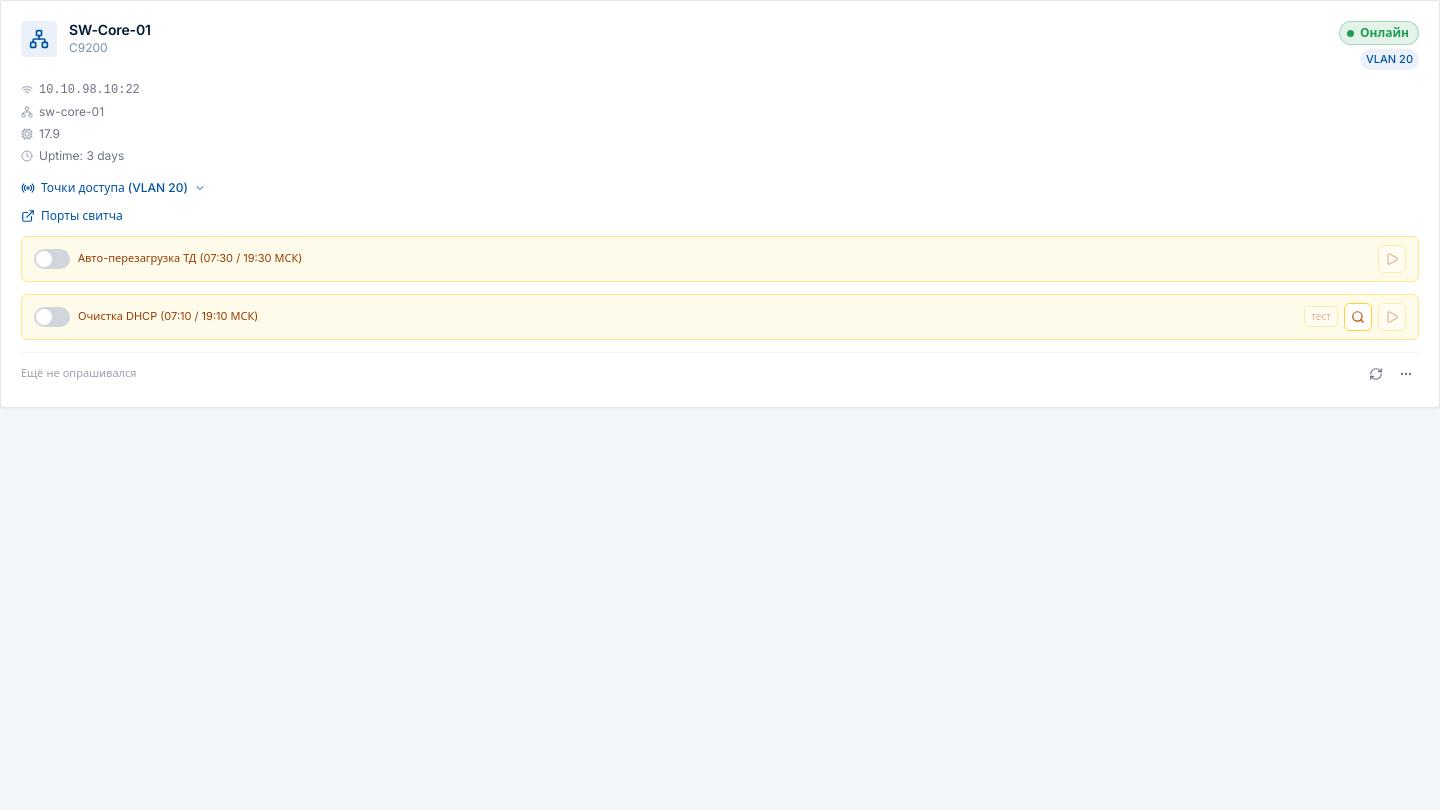
Test: SwitchCard › closes additional actions menu on outside click and Escape
Click the button titled "Дополнительные действия" at x=1406, y=374, box [1393,360,1419,386]
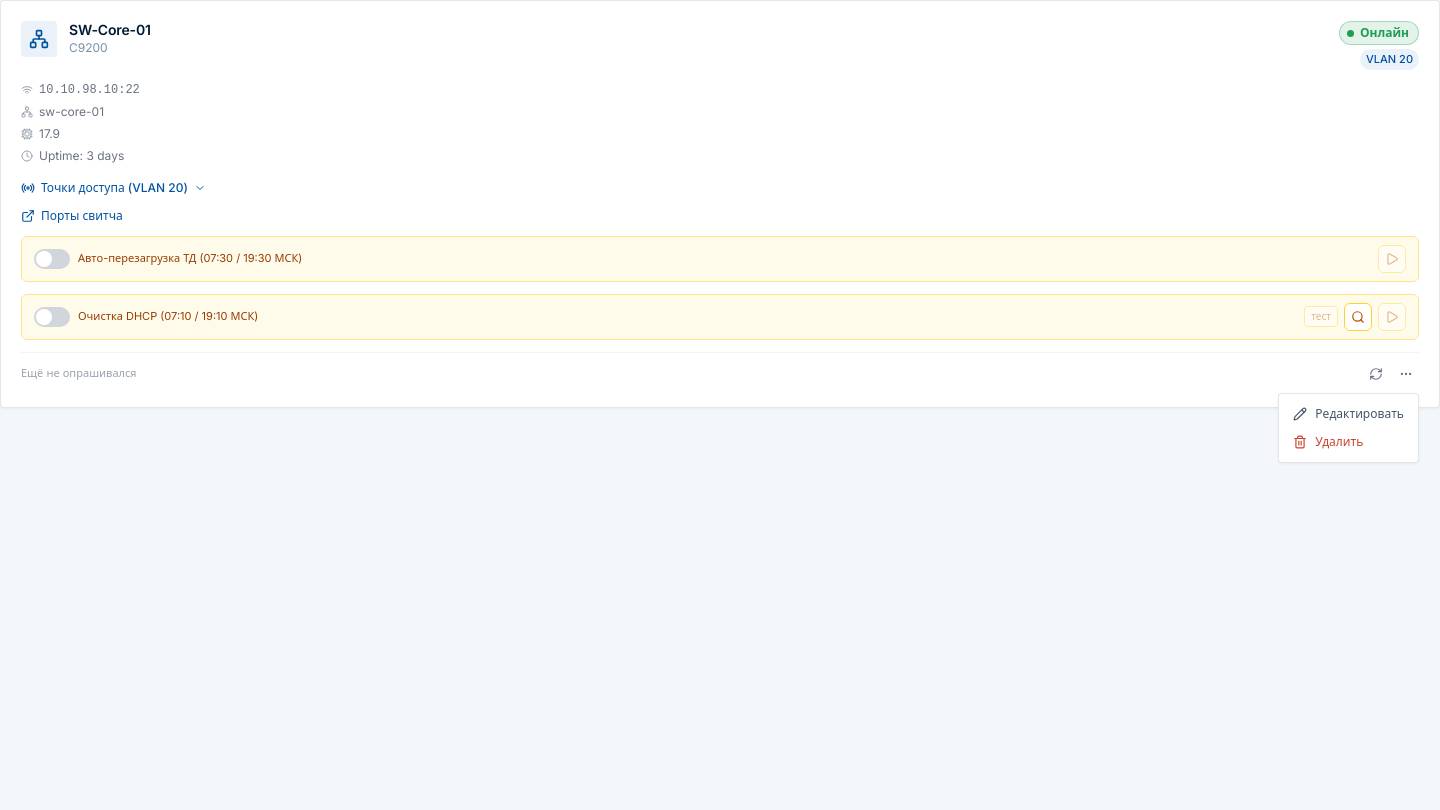
Expected: the button "Редактировать" is shown, [1285,400,1412,428]
Press the mouse on the element that starts with "SW-Core-01" at x=720, y=405, box [0,0,1439,809]
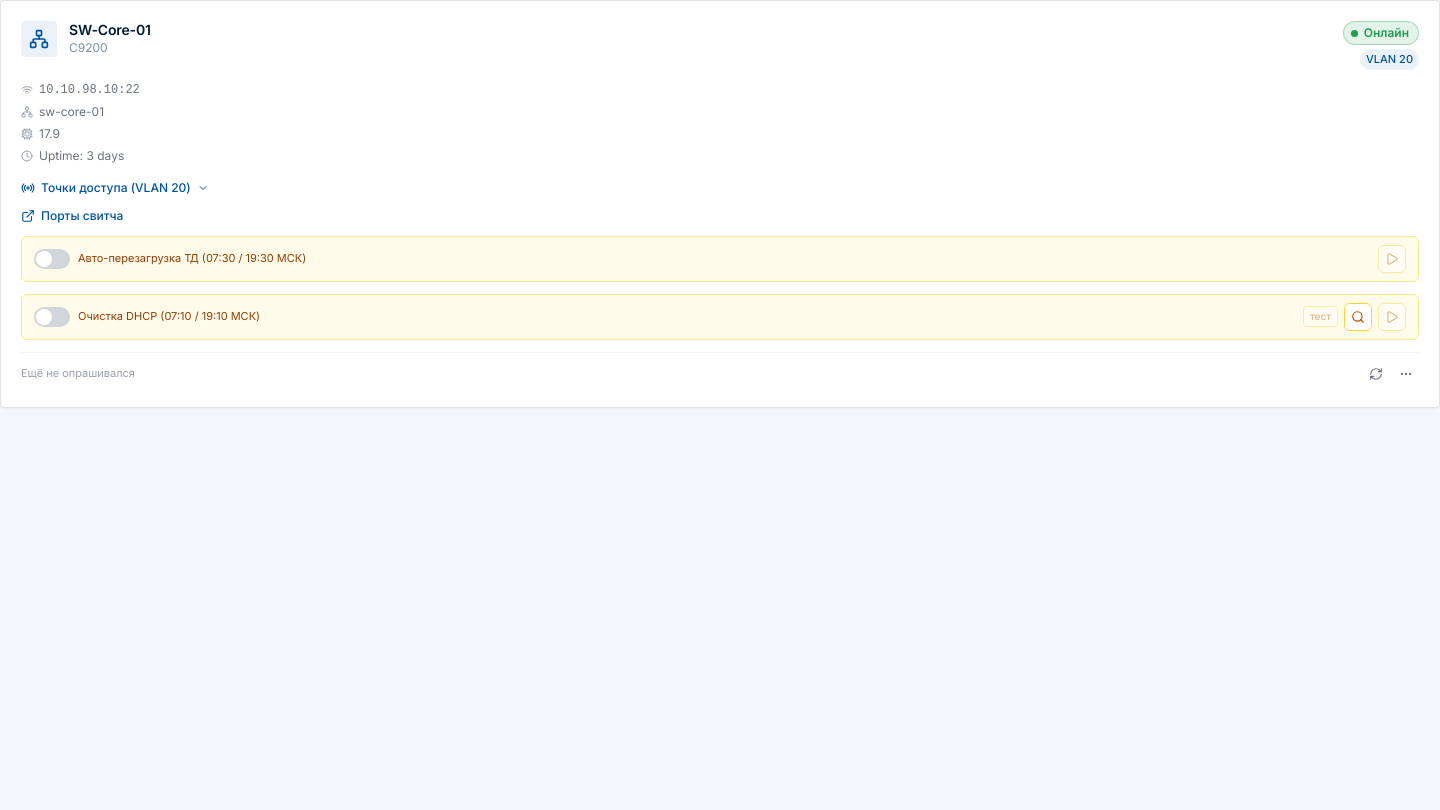
Expected: the button "Редактировать" is gone
Click the button titled "Дополнительные действия" at x=1406, y=374, box [1393,360,1419,386]
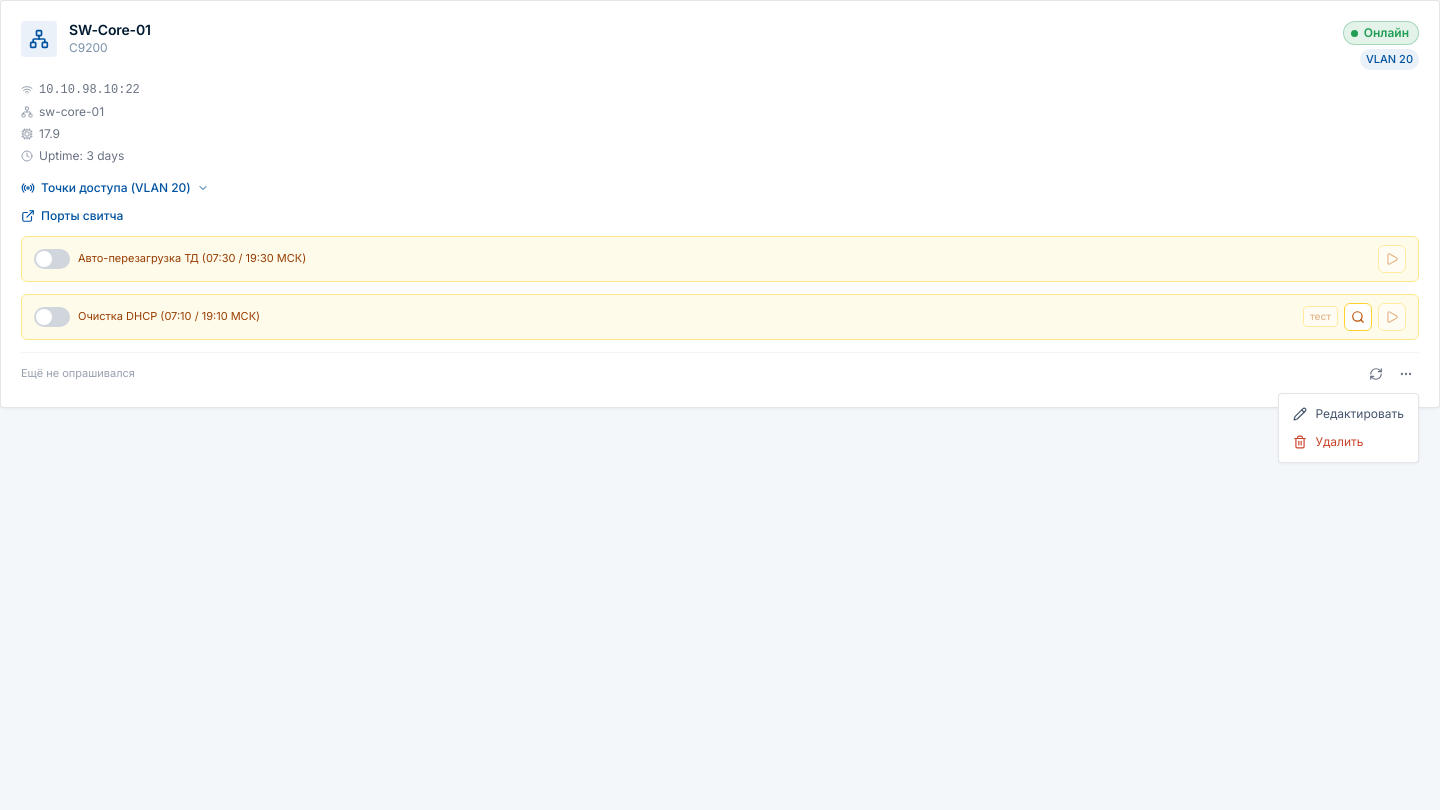
Expected: the button "Редактировать" is shown, [1285,400,1412,428]
Press Escape
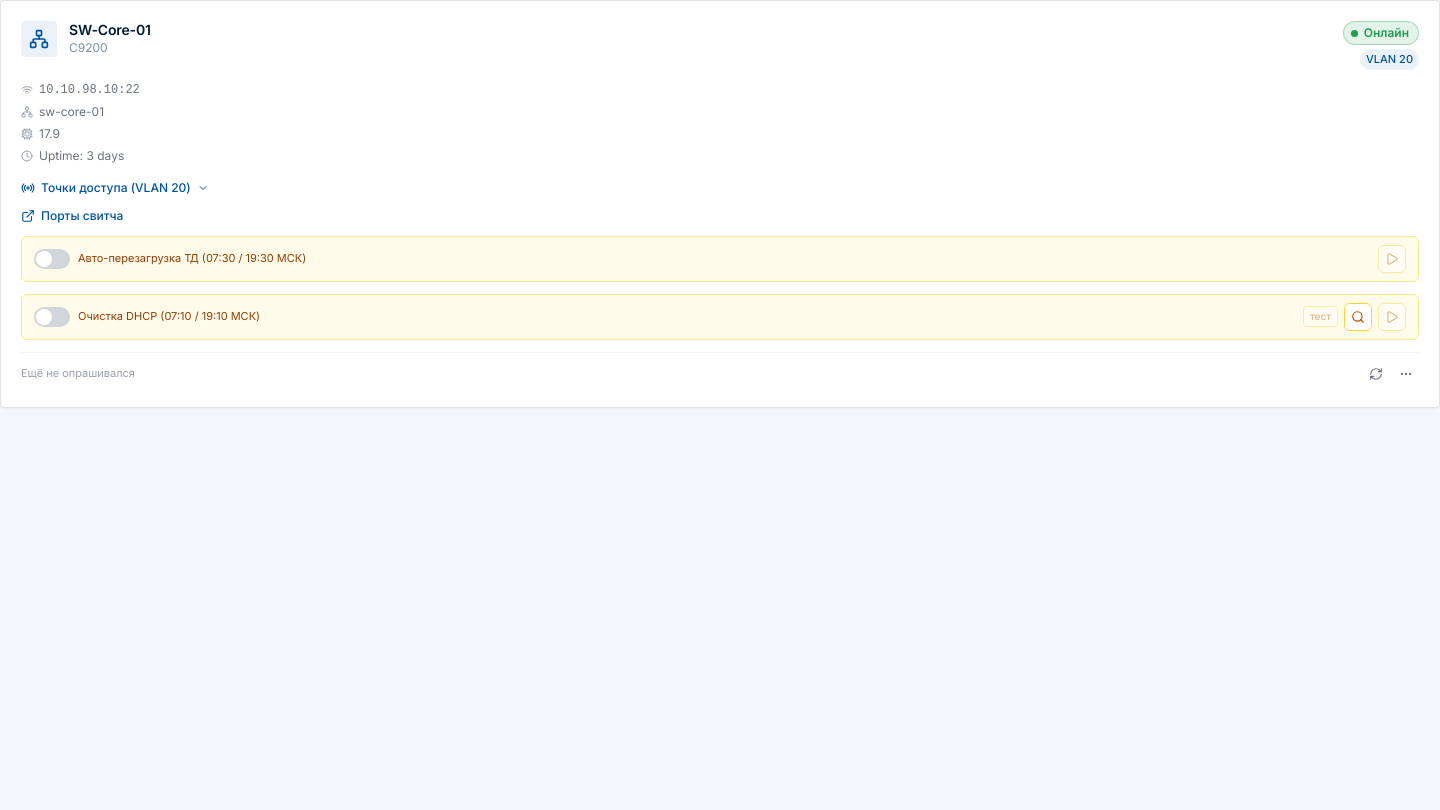
Expected: the button "Редактировать" is gone
